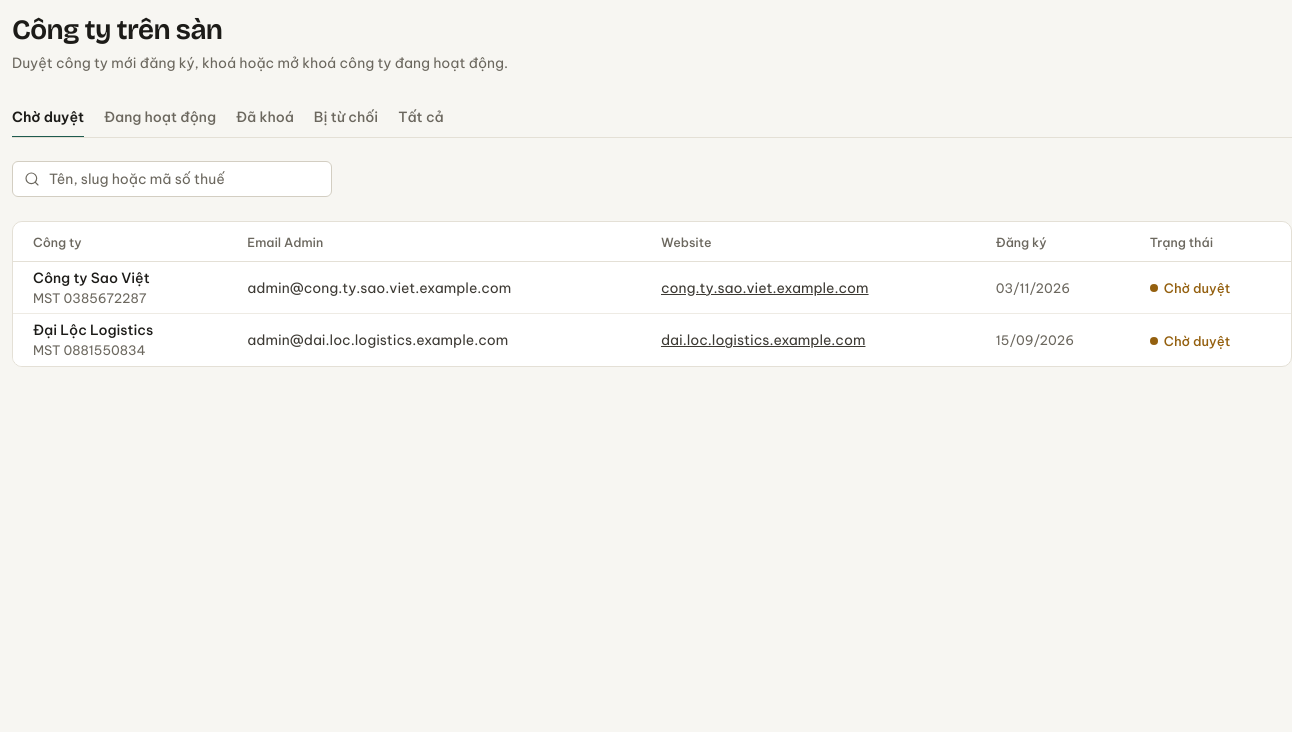
Test: Platform companies › lists companies waiting for approval by default, and every company under "Tất cả"
Check: the link "Công ty Sao Việt" is shown, box left=33, top=268, right=150, bottom=286
Check: the link "Đại Lộc Logistics" is shown, box left=33, top=321, right=153, bottom=339
Click the radio button labelled "Tất cả" at [421, 118], box left=398, top=98, right=444, bottom=138
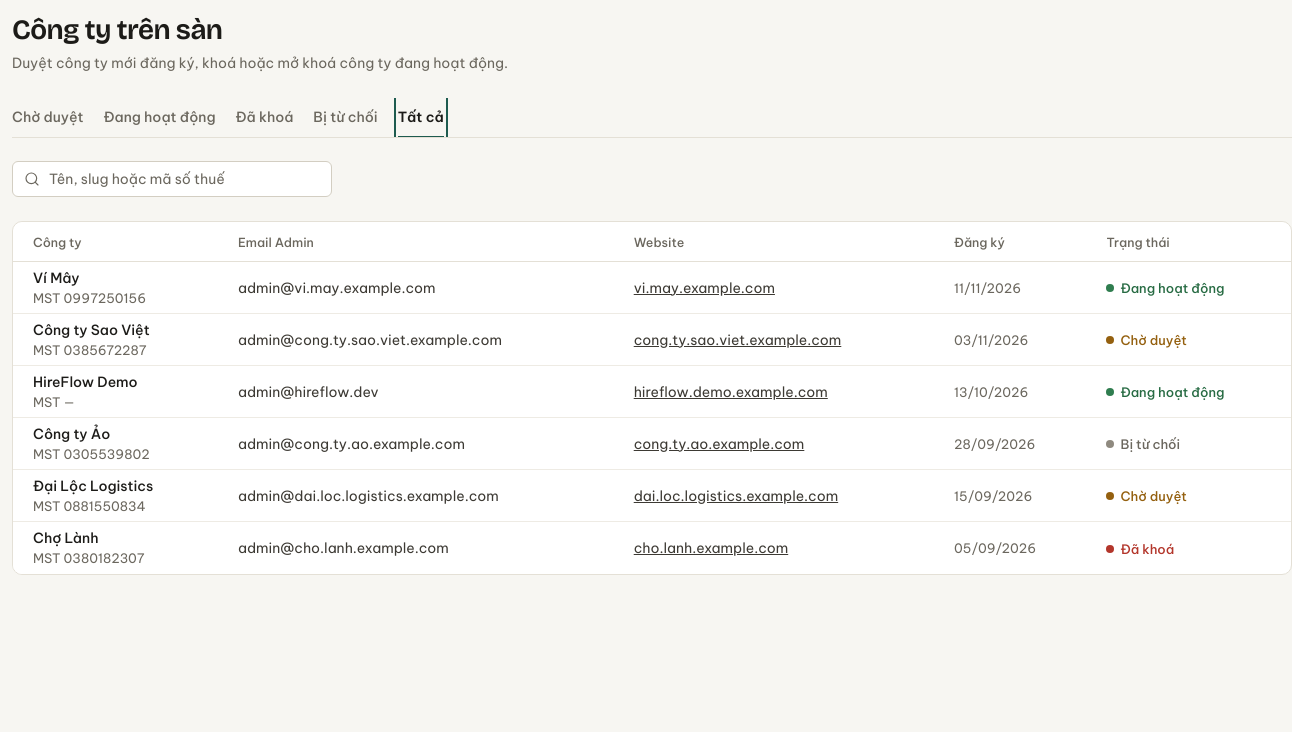
Check: the link "Ví Mây" is shown, box left=33, top=268, right=80, bottom=286
